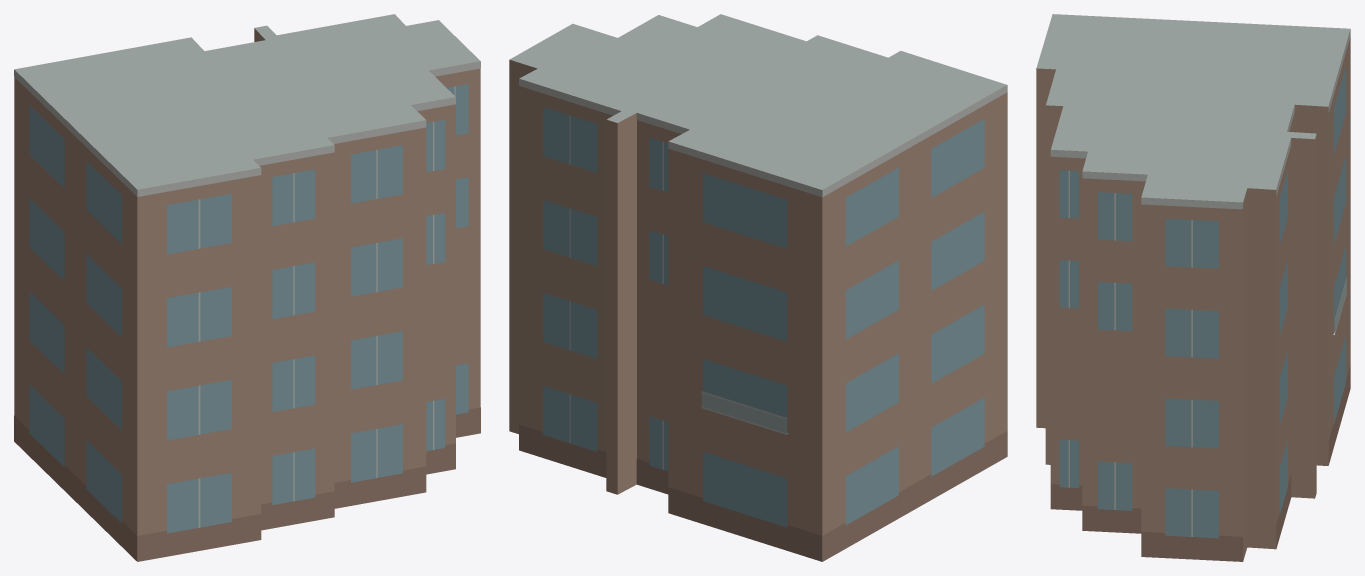
File: survey-upis-32903078.glb
3 views of the same model, side by side, from view 1: azimuth 30°, elevation 25°; view 2: azimuth 150°, elevation 25°; view 3: azimuth 270°, elevation 25° (orthographic). The views are drawn at different scales.
Visible parts, largest first — view 1: survey-upis-32903078.tmp; view 2: survey-upis-32903078.tmp; view 3: survey-upis-32903078.tmp.
Boxes of the visible parts, x1,y1,x2,y2 form: survey-upis-32903078.tmp: [14, 14, 480, 561]; survey-upis-32903078.tmp: [509, 14, 1007, 561]; survey-upis-32903078.tmp: [1036, 14, 1350, 561].
Size of the model in its own units: 14.19 by 12.6 by 10.
